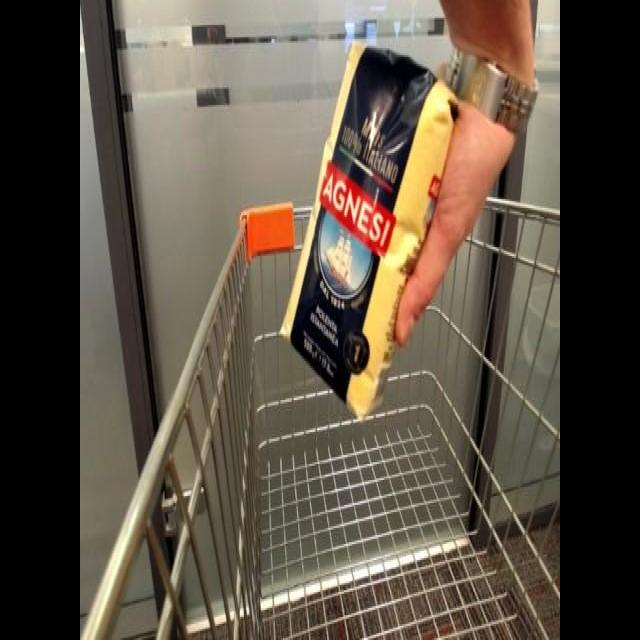Agnesi Polenta: (274, 54, 473, 424)
